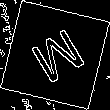M_SE: (22, 21, 88, 89)
